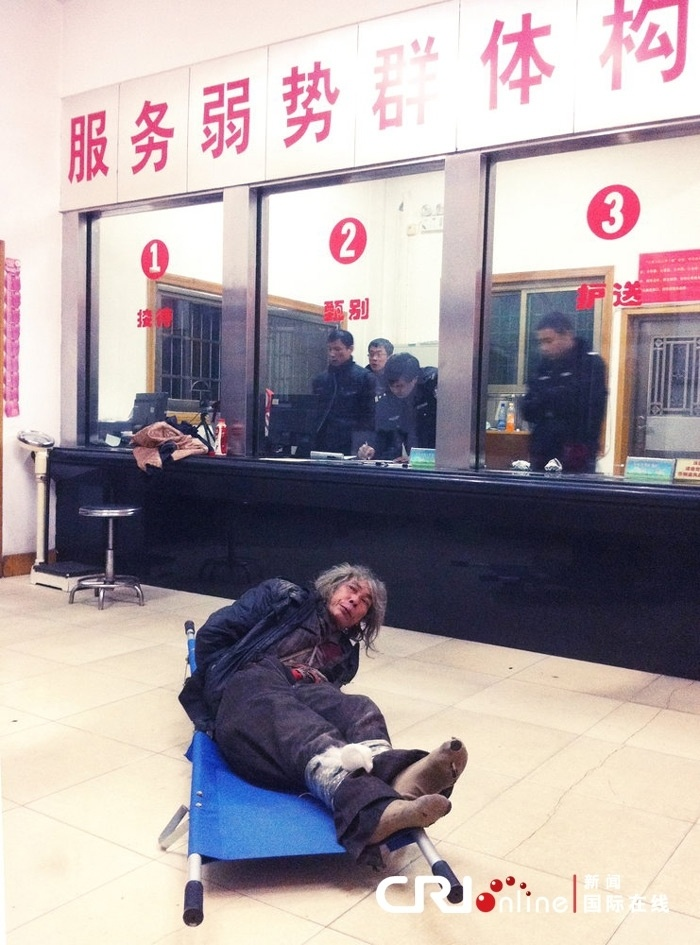falling: (168, 539, 480, 892)
